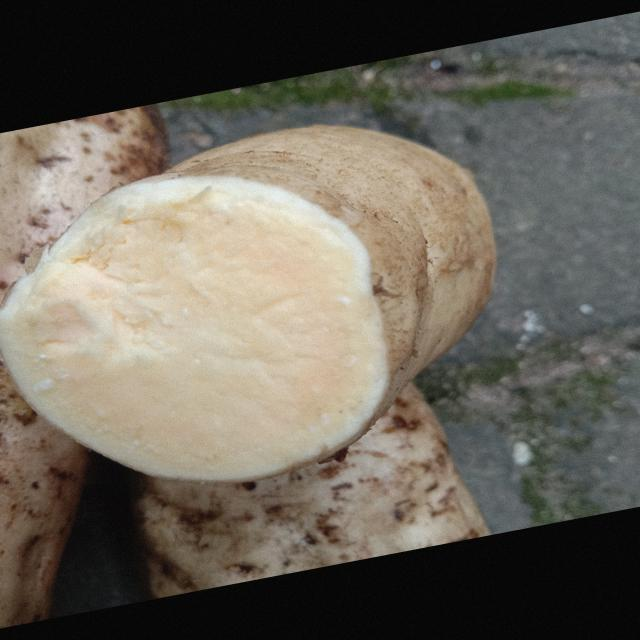Healthy Sweet Potato: (2, 175, 388, 481)
